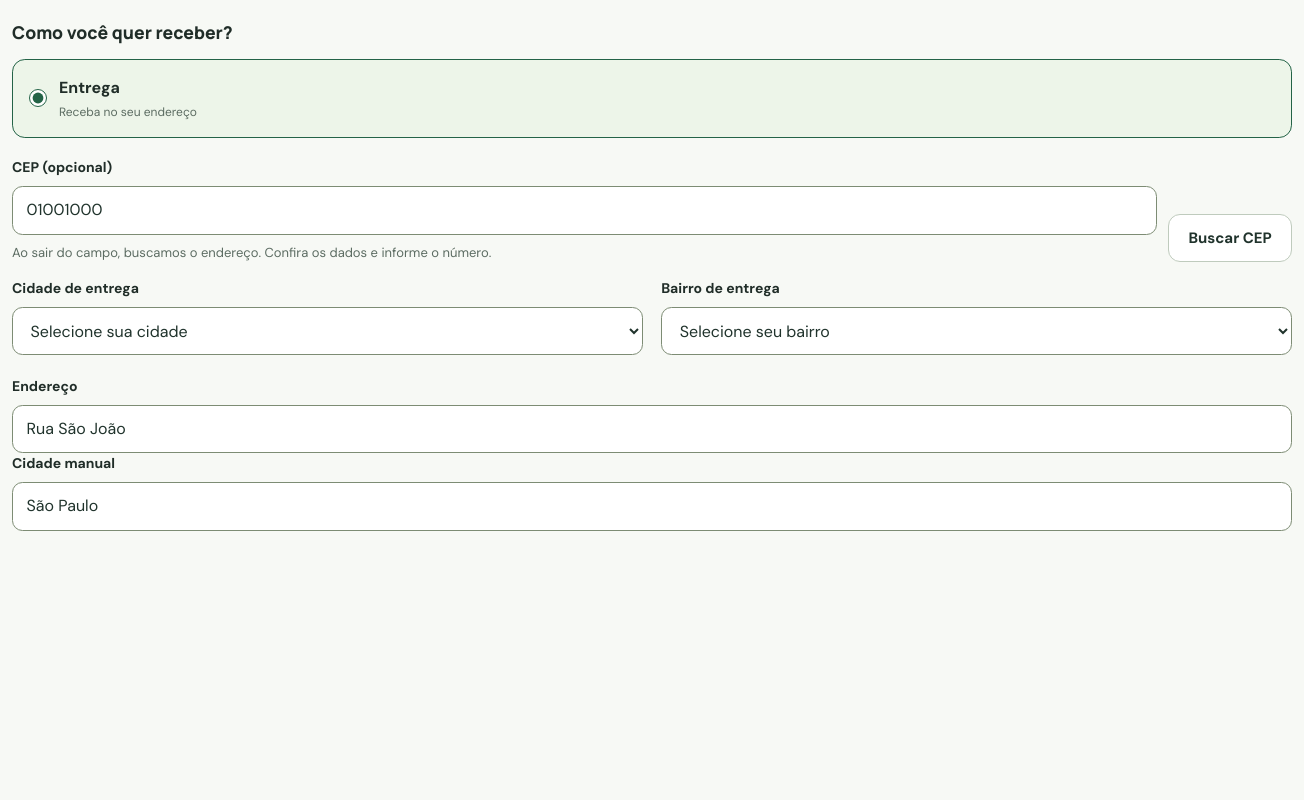
Test: matches the neighbourhood returned by CEP and ignores a late result after the address changes
Click the button "Buscar CEP" at (1230, 238), box [1168, 214, 1292, 262]
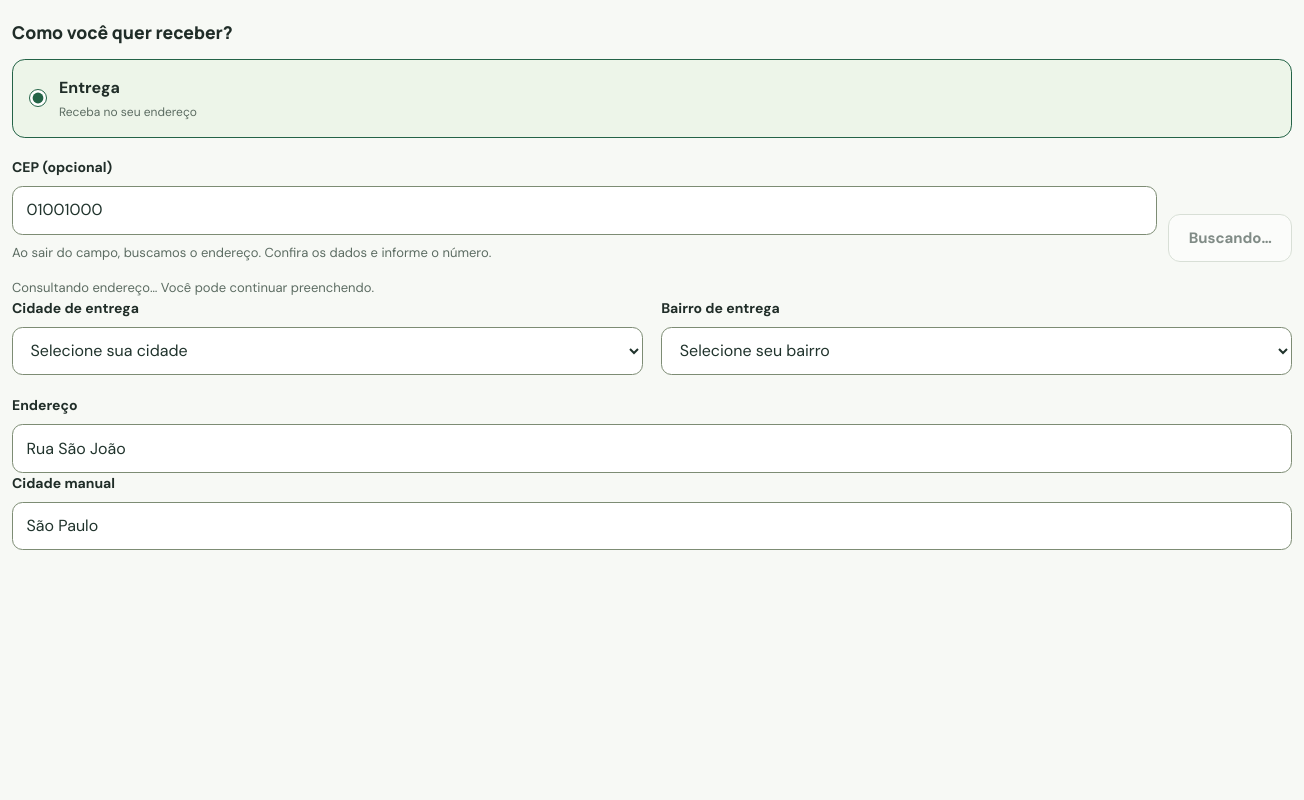
Replace the text in the field labelled "Endereço" with "Rua Nova, 20" at (652, 448), box [12, 424, 1292, 473]
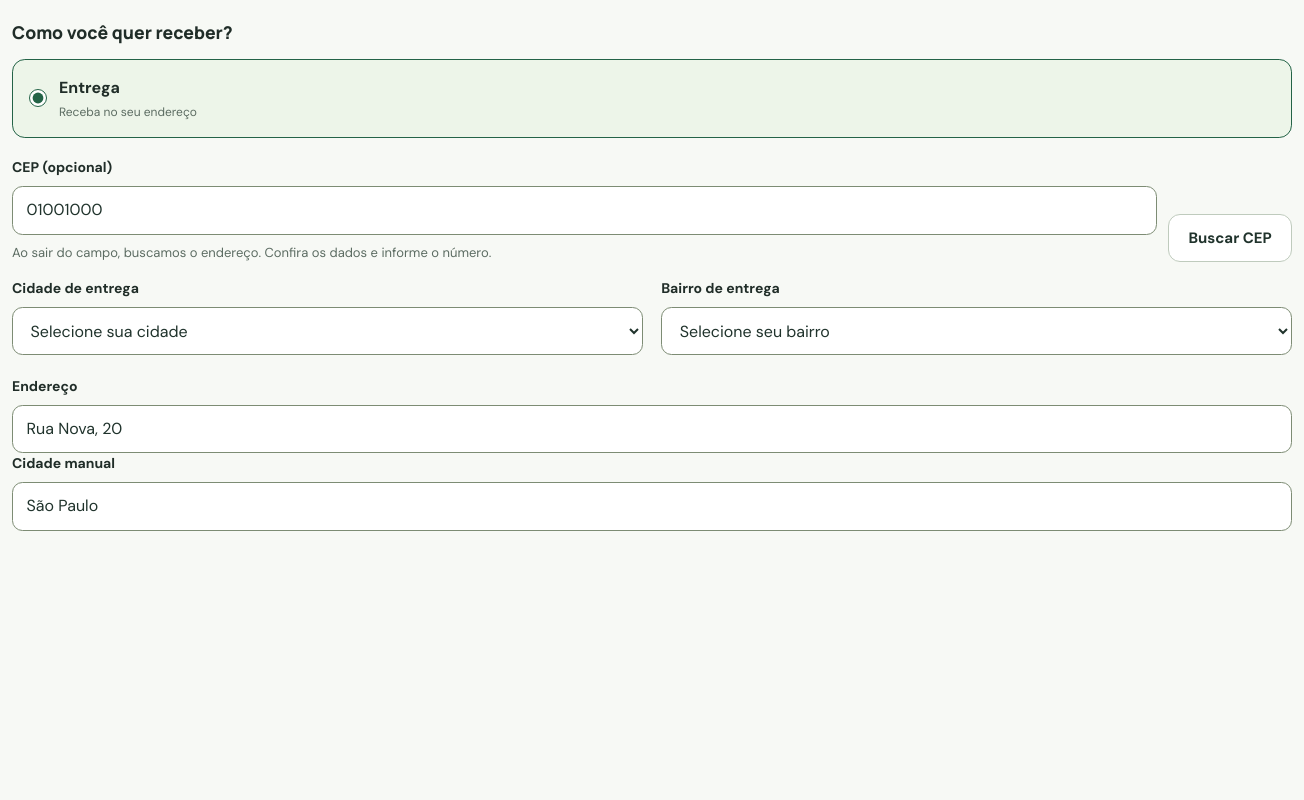
Expected: the dropdown labelled "Bairro de entrega" shows "Selecione seu bairro", [661, 307, 1292, 355]
Click the button "Buscar CEP" at (1230, 238), box [1168, 214, 1292, 262]
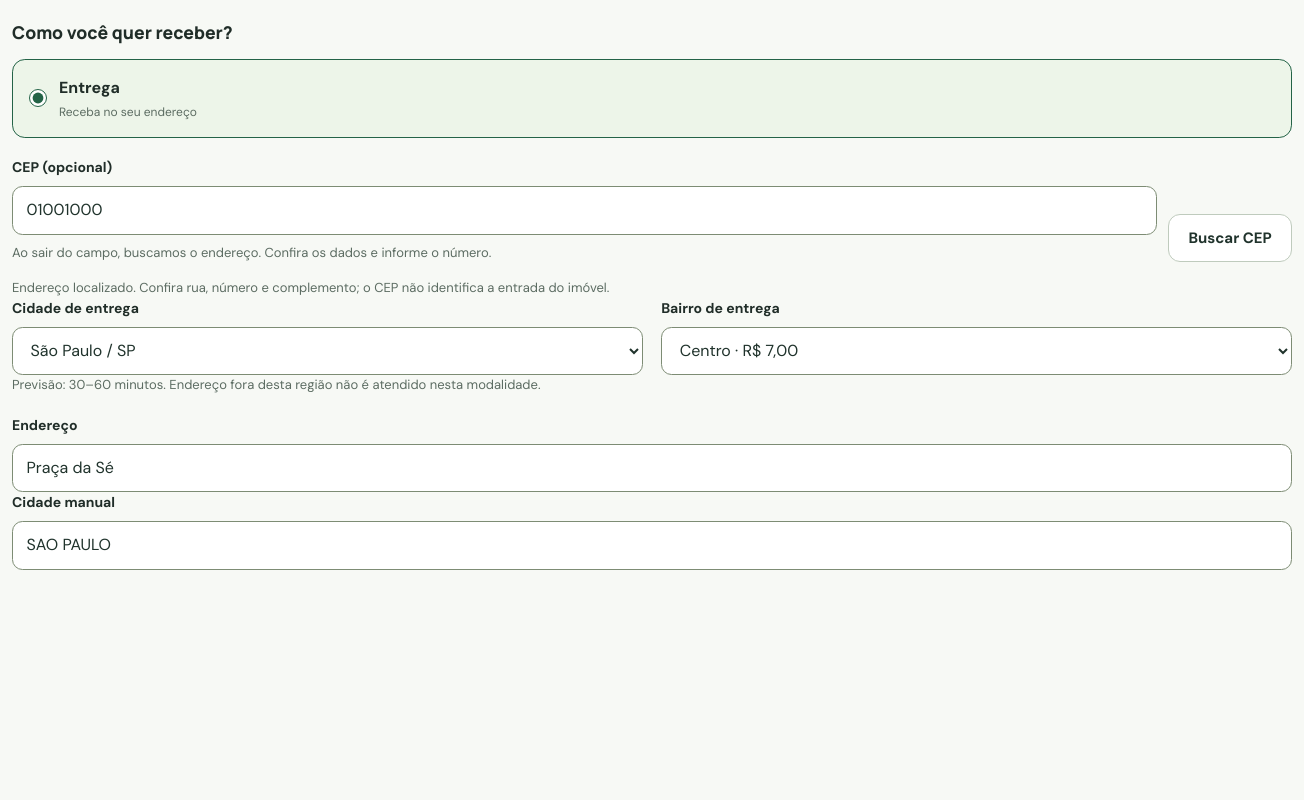
Expected: the dropdown labelled "Bairro de entrega" shows "Centro · R$ 7,00", [661, 326, 1292, 374]
Expected: the dropdown labelled "Cidade de entrega" shows "São Paulo / SP", [12, 326, 643, 374]
Expected: the field labelled "Endereço" holds "Praça da Sé", [12, 444, 1292, 492]
